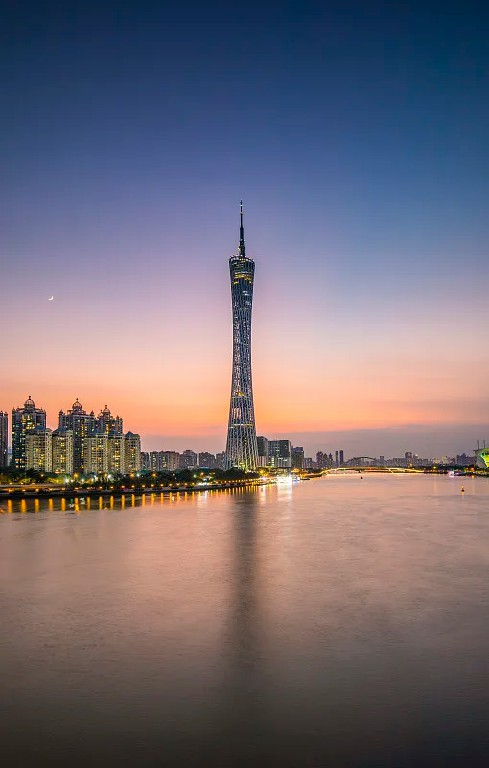Canton: (219, 201, 262, 470)
